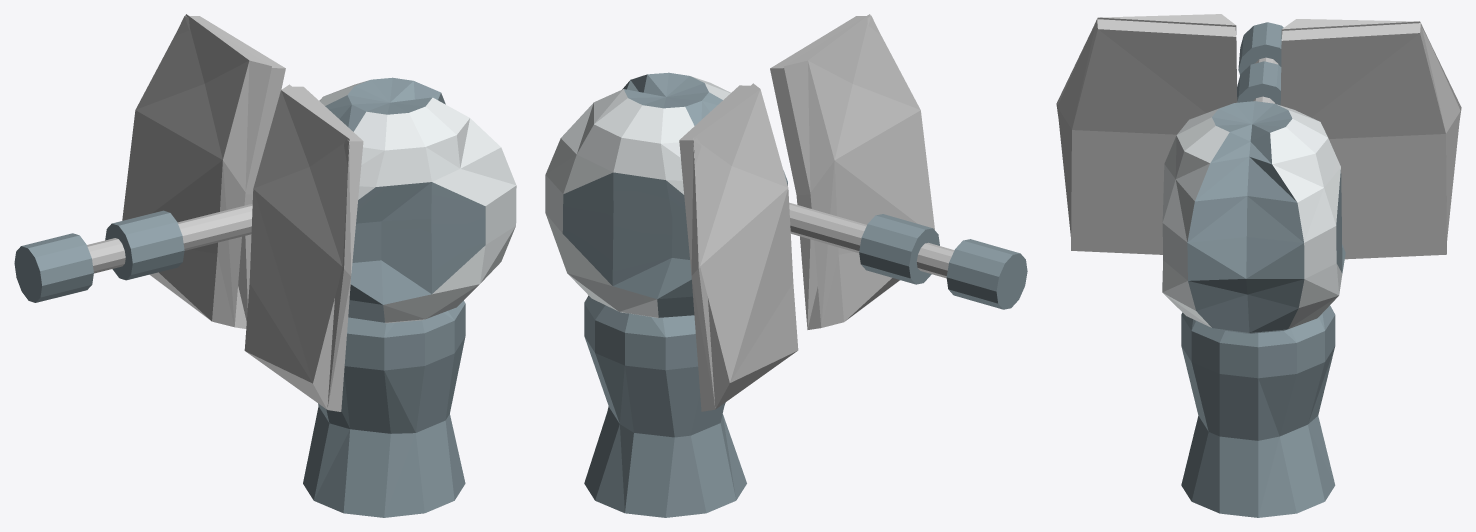
File: Turret.fbx
3 renders of one model, left to right at view 1: azimuth 30°, elevation 25°; view 2: azimuth 150°, elevation 25°; view 3: azimuth 270°, elevation 25°, orthographic. The views are drawn at different scales.
Visible parts, largest first — view 1: group1004485838; view 2: group1004485838; view 3: group1004485838.
Part boxes in pixels (x1=…): group1004485838: x1=14, y1=14, x2=516, y2=517; group1004485838: x1=545, y1=14, x2=1027, y2=517; group1004485838: x1=1056, y1=14, x2=1461, y2=517.
Size of the model in its own units: 35.19 by 32.89 by 29.12.
